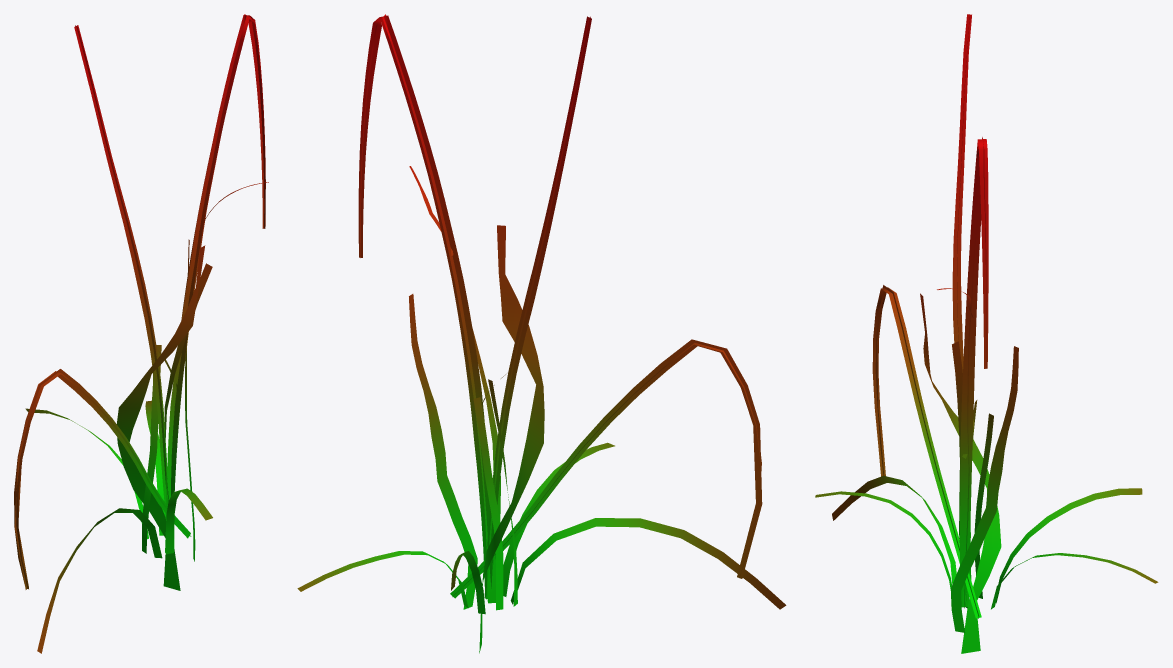
The model's file is tdcrdbur_Var5_LOD0.fbx.
3 views of the same model, side by side, from view 1: azimuth 30°, elevation 25°; view 2: azimuth 150°, elevation 25°; view 3: azimuth 270°, elevation 25° (orthographic). The views are drawn at different scales.
Visible parts, largest first — view 1: _bf29_Var5_LOD0; view 2: _bf29_Var5_LOD0; view 3: _bf29_Var5_LOD0.
Boxes of the visible parts, x1,y1,x2,y2 form: _bf29_Var5_LOD0: (14, 14, 268, 653); _bf29_Var5_LOD0: (297, 14, 786, 653); _bf29_Var5_LOD0: (815, 14, 1158, 653).
Size of the model in its own units: 36.29 by 66.62 by 35.08.
